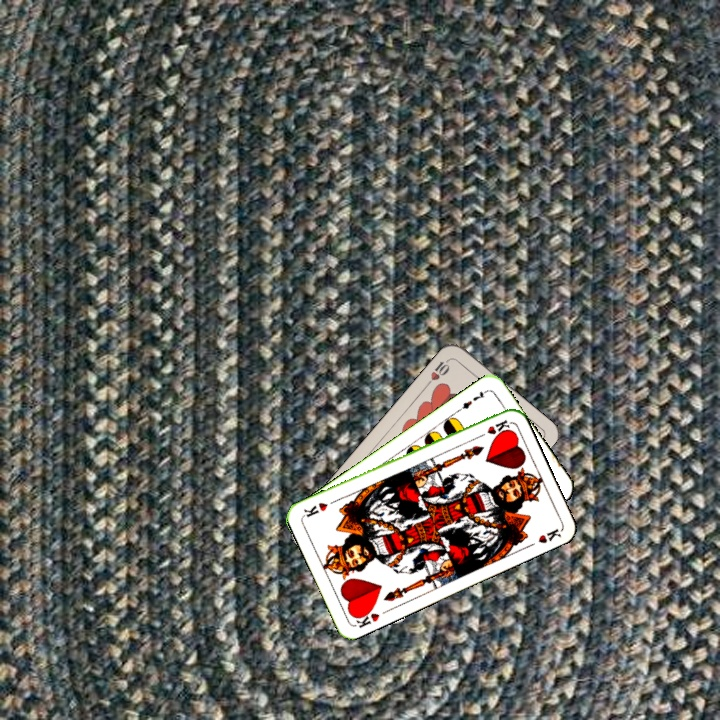E7: (454, 386, 490, 414)
H10: (423, 354, 454, 388)
HK: (473, 416, 513, 441), (350, 604, 382, 631)
